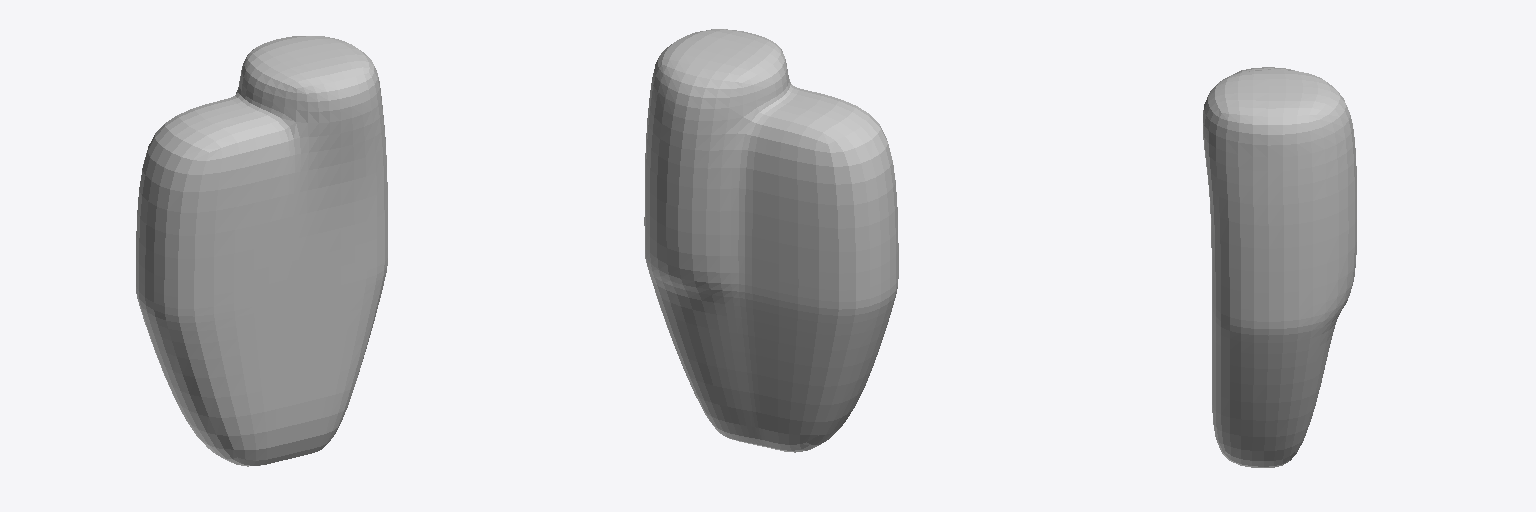
Rendered from Right_Engine.obj.
3 views of the same model, side by side, from view 1: azimuth 30°, elevation 25°; view 2: azimuth 150°, elevation 25°; view 3: azimuth 270°, elevation 25° (orthographic).
Parts seen in each view (by area): view 1: Right_Engine_Cube; view 2: Right_Engine_Cube; view 3: Right_Engine_Cube.
Part boxes in pixels (x1,y1,x2,y2): Right_Engine_Cube: (136, 36, 387, 466); Right_Engine_Cube: (644, 29, 898, 452); Right_Engine_Cube: (1203, 67, 1356, 467).
Size of the model in its own units: 2.85 by 4.51 by 1.64.